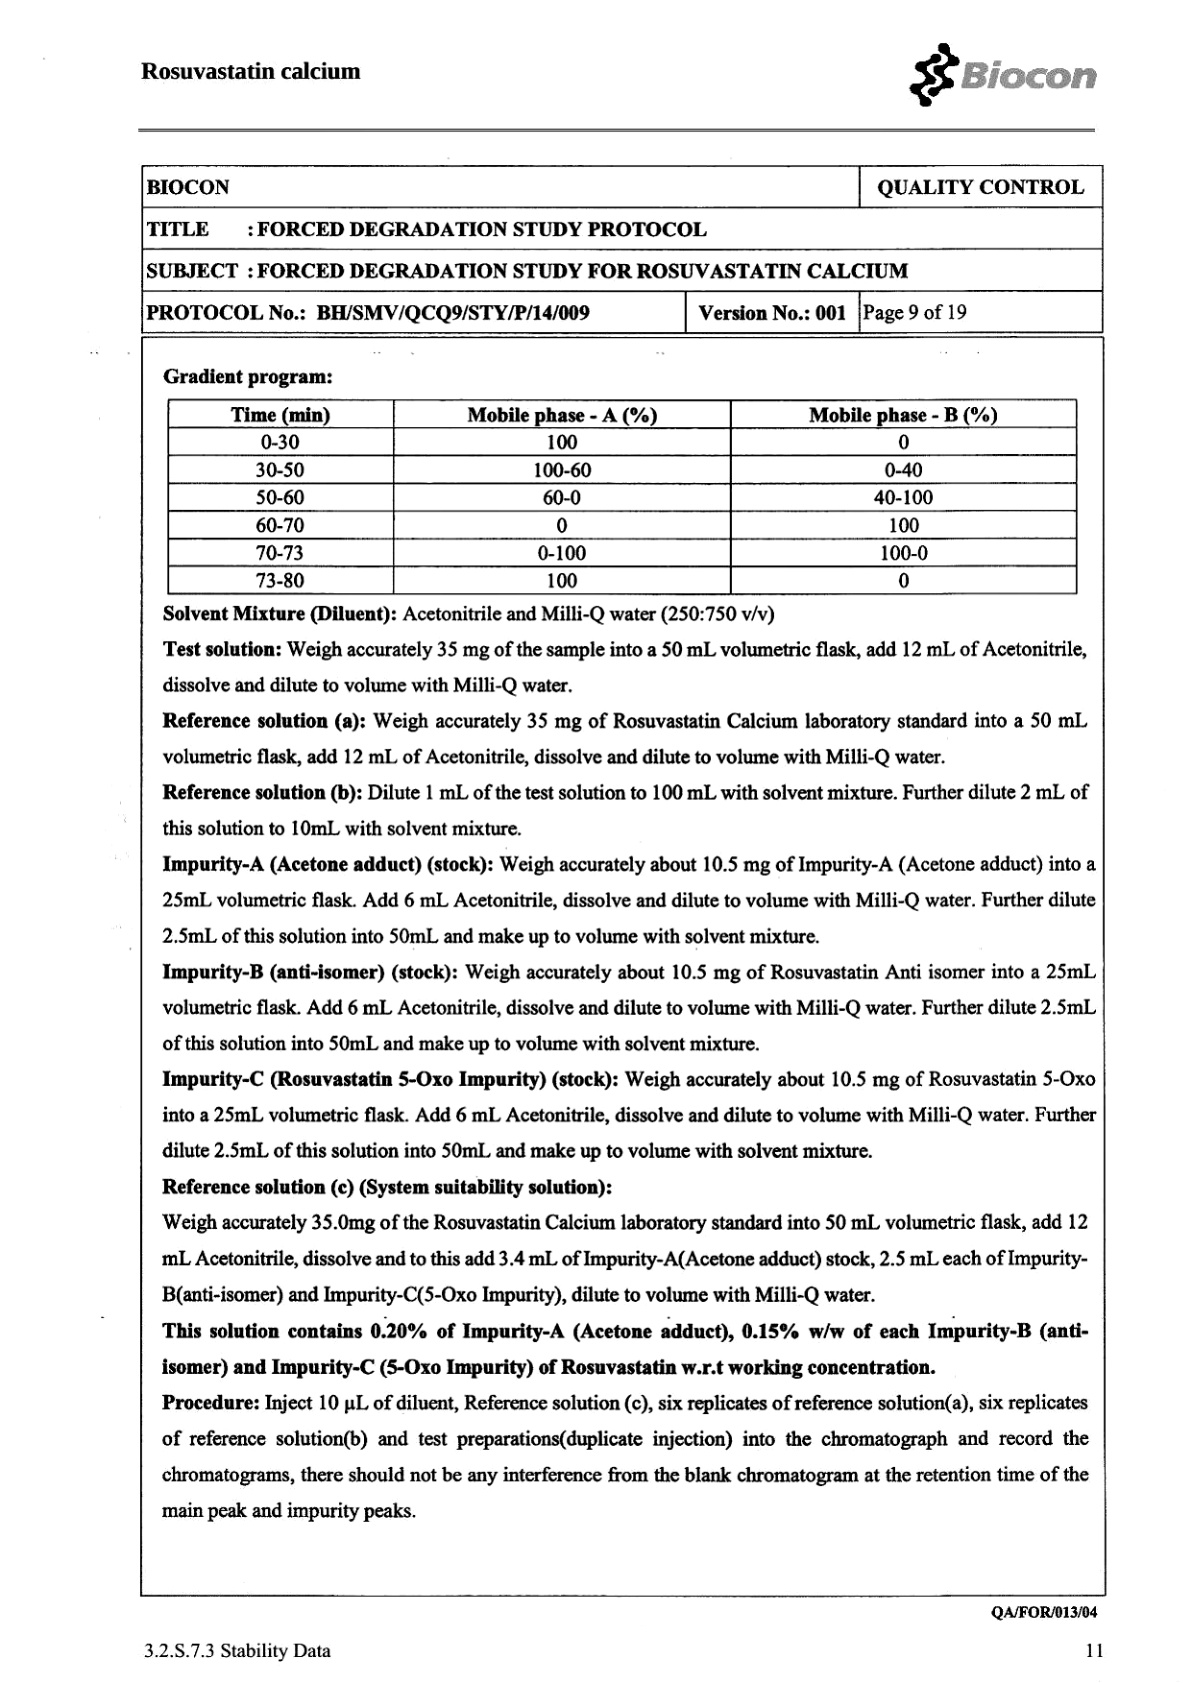full_lined: (166, 399, 1078, 595)
merged_cells: (139, 162, 1106, 335)
